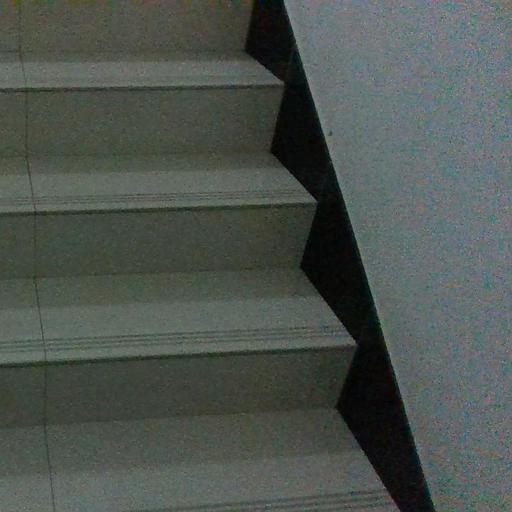Stairs: (0, 0, 394, 512)
